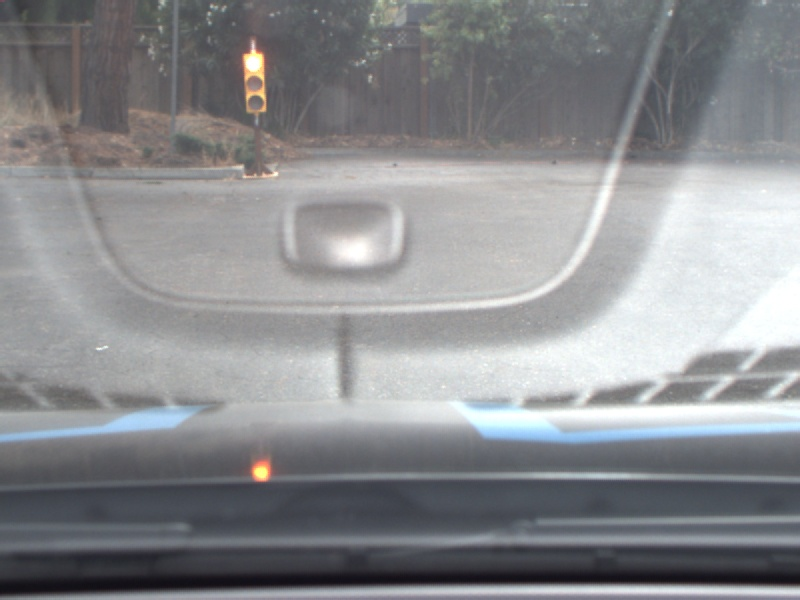red: (241, 50, 269, 114)
